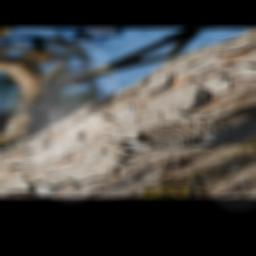Woodpecker: (98, 83, 256, 165)
